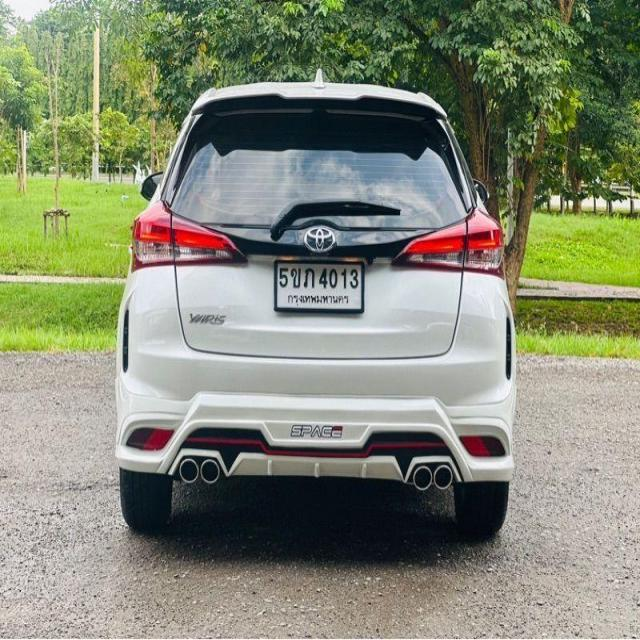Hatchback: (114, 79, 518, 543)
